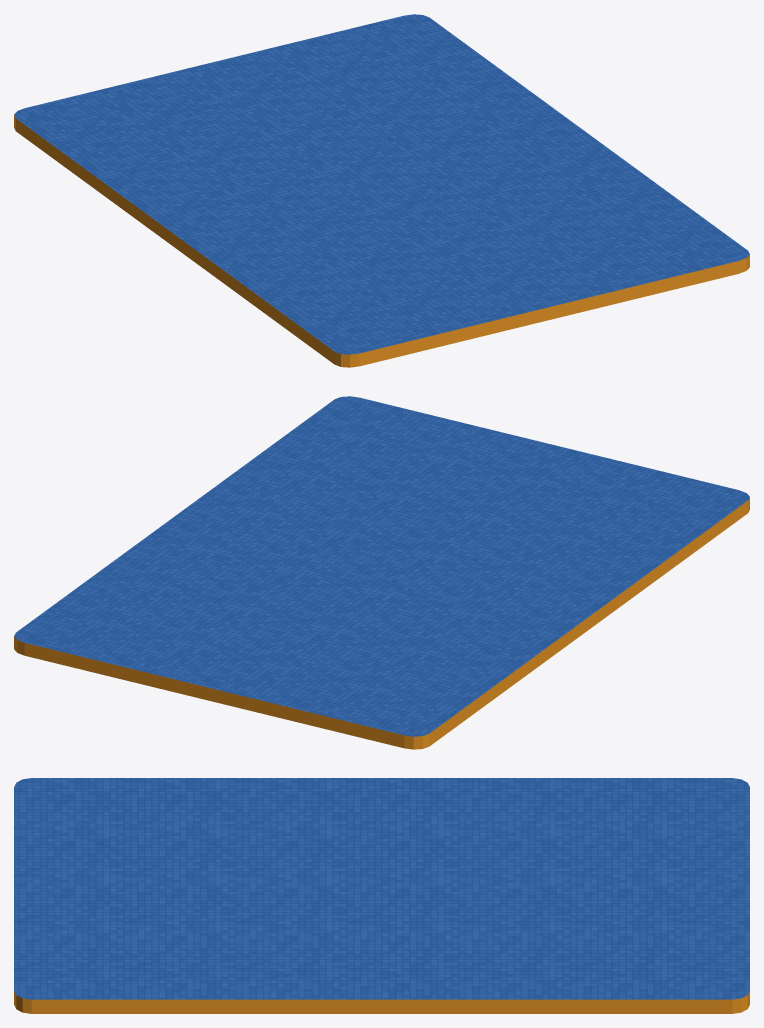
Rendered from Ceiling02.fbx.
3 renders of one model, top to bottom at view 1: azimuth 30°, elevation 25°; view 2: azimuth 150°, elevation 25°; view 3: azimuth 270°, elevation 25°, orthographic. The views are drawn at different scales.
Parts seen in each view (by area): view 1: Empty_Mesh; view 2: Empty_Mesh; view 3: Empty_Mesh.
Part boxes in pixels (bbox=[...]): Empty_Mesh: bbox=[14, 14, 749, 367]; Empty_Mesh: bbox=[14, 396, 749, 749]; Empty_Mesh: bbox=[14, 778, 749, 1013].
Size of the model in its own units: 1411 by 42.18 by 1980.
